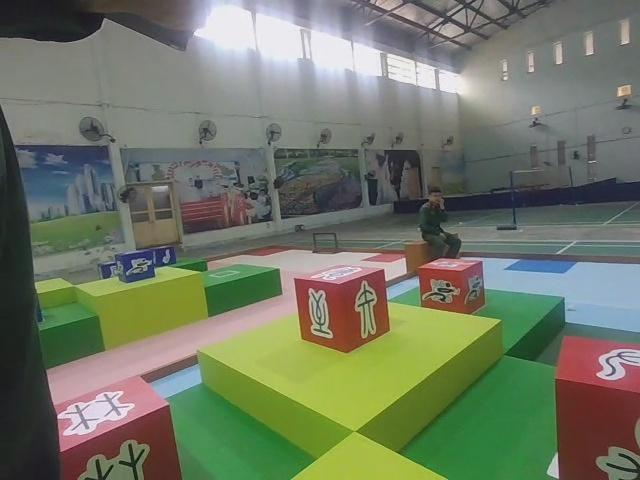R1: (416, 253, 487, 315)
R2 Fake: (296, 265, 389, 354)
R2 Real: (40, 370, 185, 480), (554, 330, 640, 480)
